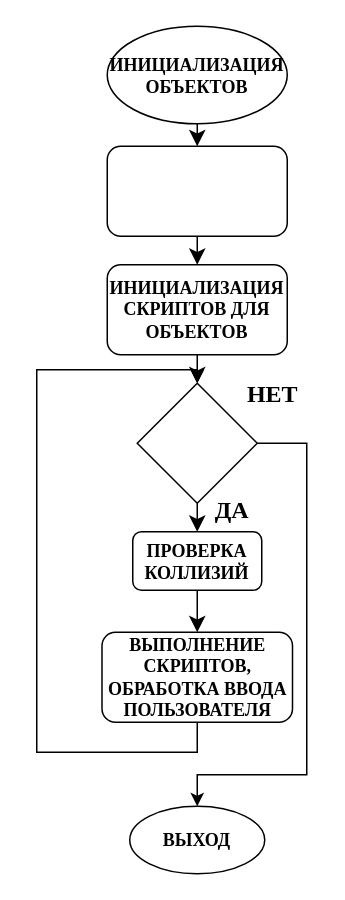
Some shapes in this 345 by 900 pixel diagram are drawn without their labels. Each missing label, with the centre of its shape:
ЗАГРУЗКА ОБЪЕКТОВ: (196,190)
ИГРОВОЙ ЦИКЛ: (196,442)
